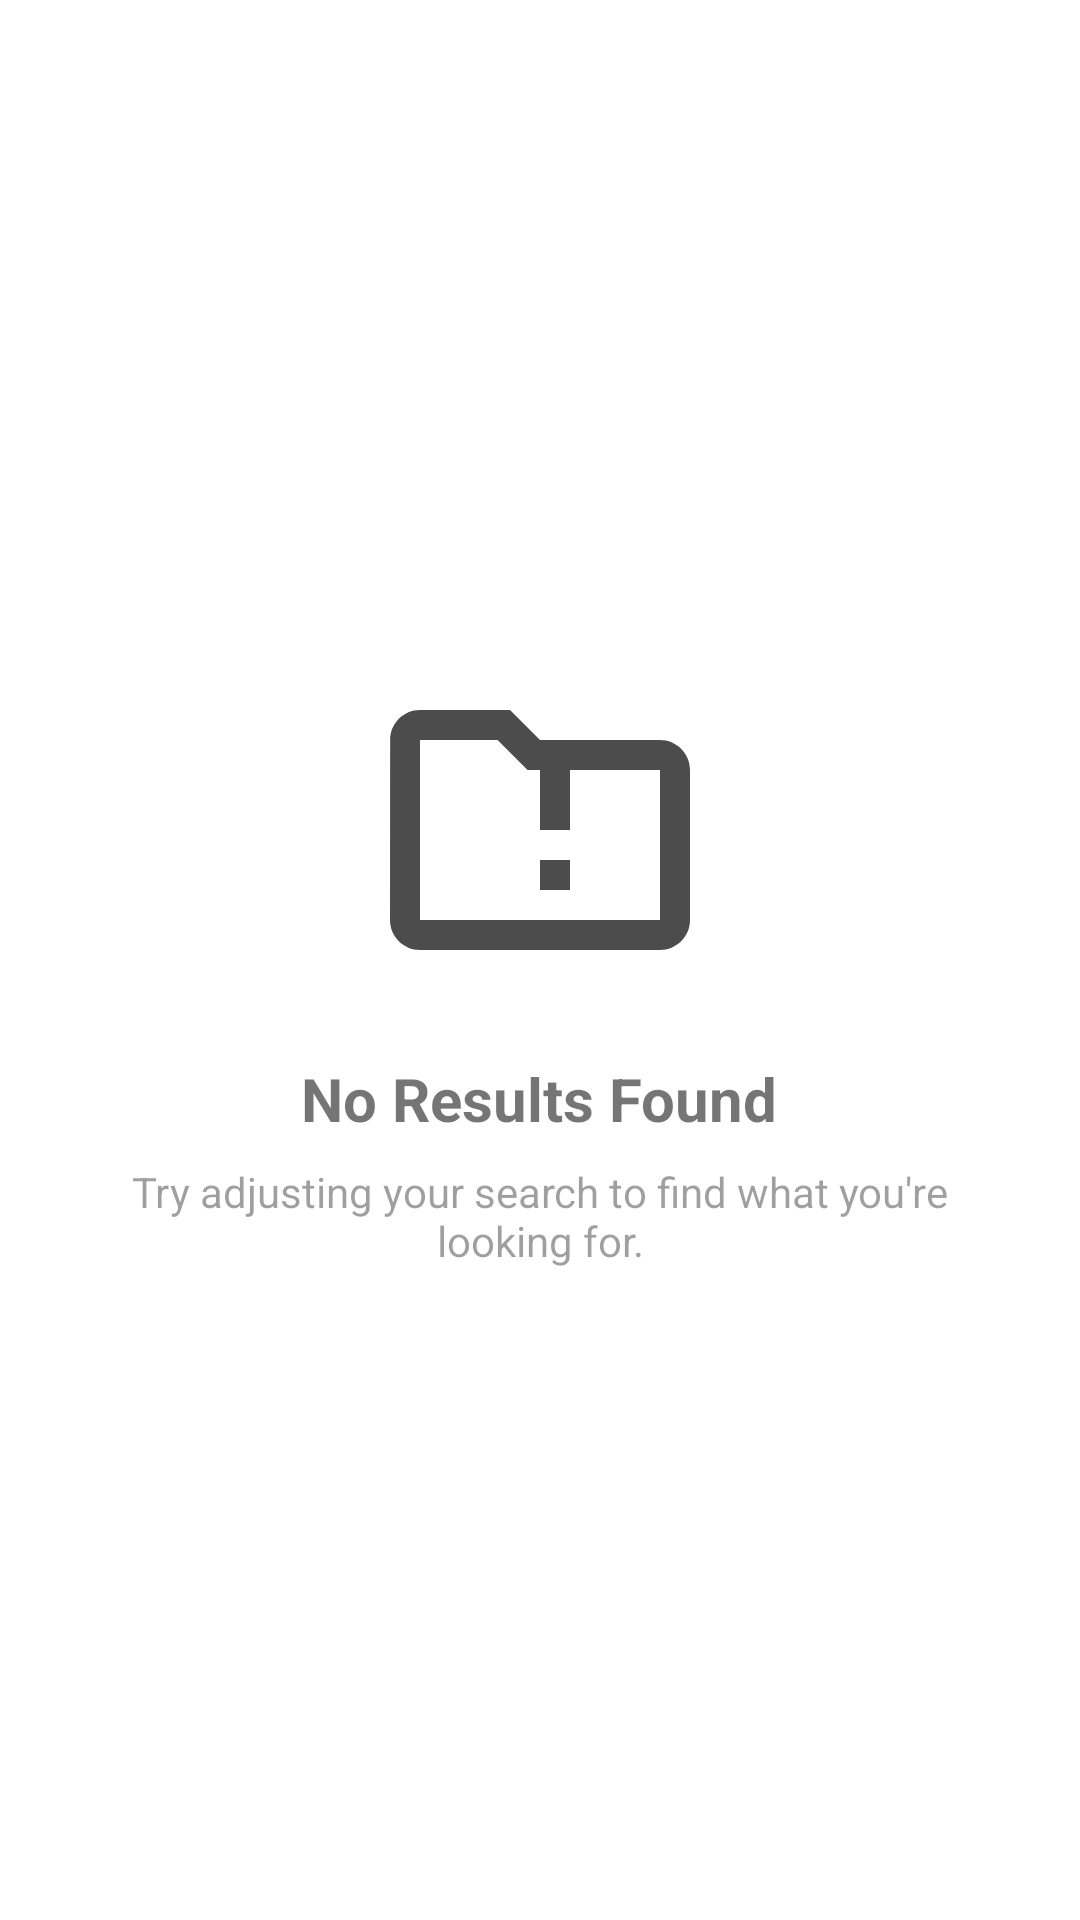

Icons on this 1080*1920 Android screen, each with its box as (x1, y1, x2, y2):
empty state: (390, 710, 690, 950)
